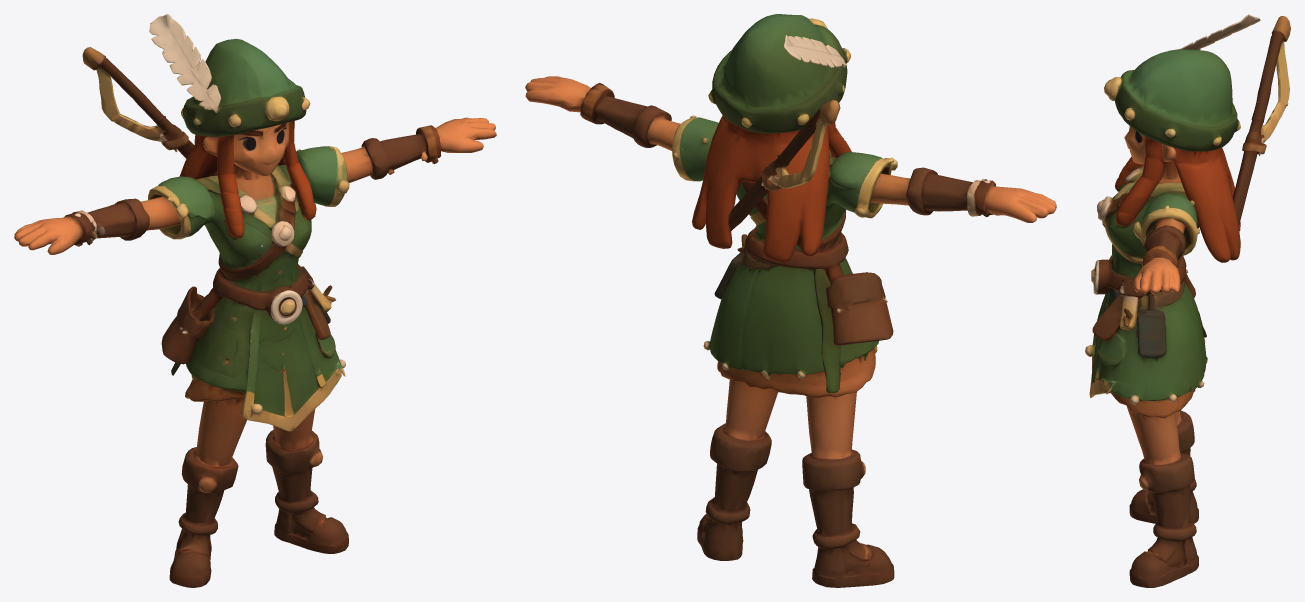
The model's file is comp_leyla.glb.
3 renders of one model, left to right at view 1: azimuth 30°, elevation 25°; view 2: azimuth 150°, elevation 25°; view 3: azimuth 270°, elevation 25°, orthographic. The views are drawn at different scales.
Visible parts, largest first — view 1: tripo_node_b08f4811-fd9f-47ef-941f-efc6f413825b; view 2: tripo_node_b08f4811-fd9f-47ef-941f-efc6f413825b; view 3: tripo_node_b08f4811-fd9f-47ef-941f-efc6f413825b.
Boxes of the visible parts, x1,y1,x2,y2 form: tripo_node_b08f4811-fd9f-47ef-941f-efc6f413825b: (14,14,496,587); tripo_node_b08f4811-fd9f-47ef-941f-efc6f413825b: (525,14,1056,587); tripo_node_b08f4811-fd9f-47ef-941f-efc6f413825b: (1085,14,1290,587).
Size of the model in its own units: 0.9538 by 1 by 0.3633.
1 material, 1 textured.
